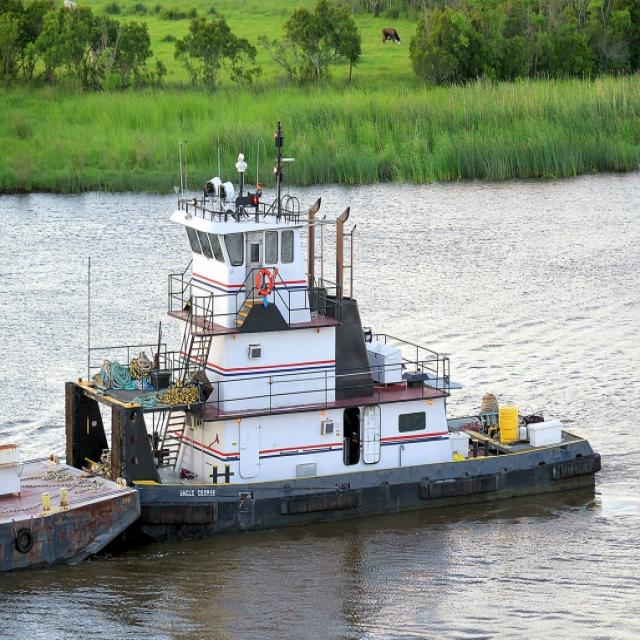tugboat: (55, 119, 608, 535)
